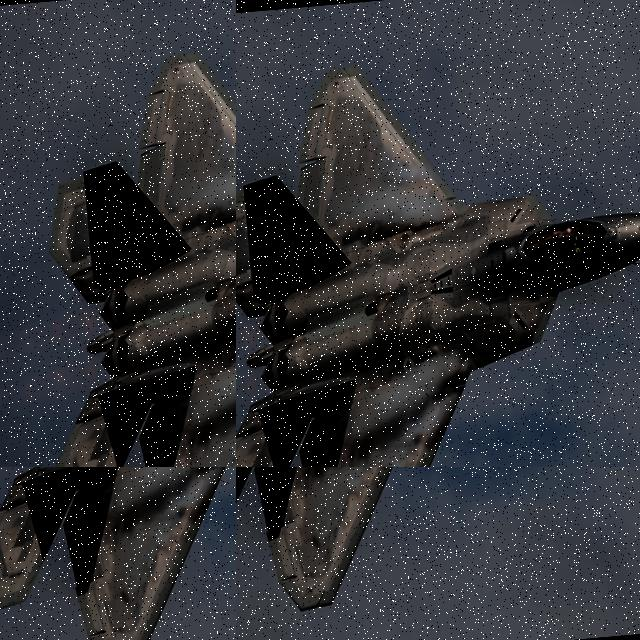F22: (0, 37, 236, 467), (236, 467, 640, 618), (0, 467, 236, 587)
KAU_Marker: (236, 33, 575, 467)
